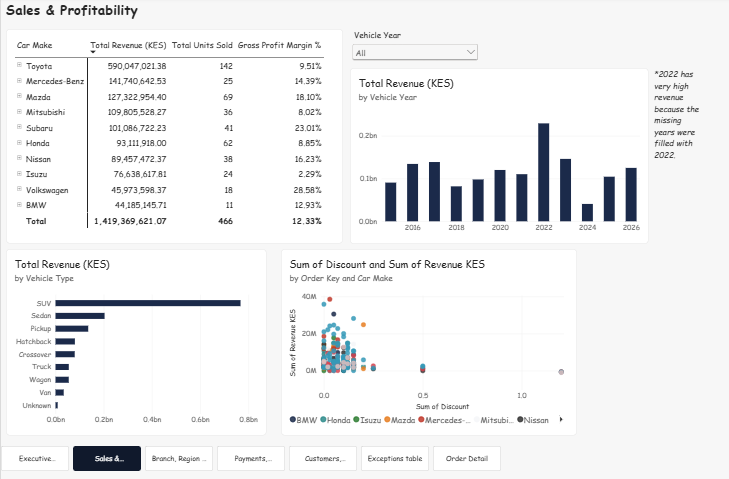

What the dashboard file says about the page in this screenshot:
{"tool":"powerbi","page":{"name":"Sales & Profitability","canvas":[1920,1080],"ordinal":1},"visuals":[{"type":"textbox","box":[10.2,0,309.3,58.4],"z":0},{"type":"pivotTable","fields":{"Rows":["Dim_Vehicle.Car Make","Dim_Vehicle.Car Model"],"Values":["_Measures.Total Revenue (KES)","_Measures.Total Units Sold","_Measures.Gross Profit Margin %"]},"box":[10.2,58.4,674,428.9],"z":1000},{"type":"clusteredBarChart","fields":{"Category":["Dim_Vehicle.Vehicle Type"],"Y":["_Measures.Total Revenue (KES)"]},"box":[10.2,497.5,520.9,373.5],"z":2000},{"type":"scatterChart","fields":{"Category":["Fact_Sales.Order Key"],"Series":["Dim_Vehicle.Car Make"],"X":["Sum(Fact_Sales.Discount)"],"Y":["Sum(Fact_Sales.Revenue KES)"]},"box":[560.2,497.5,592.3,373.5],"z":3000},{"type":"slicer","fields":{"Values":["Dim_Vehicle.Vehicle Year"]},"box":[698.8,58.4,261.2,93.4],"z":4000},{"type":"columnChart","fields":{"Category":["Dim_Vehicle.Vehicle Year"],"Y":["_Measures.Total Revenue (KES)"]},"box":[698.8,135.7,596.7,351.6],"z":5000},{"type":"textbox","box":[1305.8,135.7,96.3,351.6],"z":6000},{"type":"pageNavigator","box":[0,891.4,1000,50],"z":7000}]}

Visuals, with their boxes on the page's 1920x1080 design canvas (x1, y1, x2, y2). These are canvas units, not pixel positions in the 729x479 screenshot, which may show the page scaled, cropped or inside an application window:
textbox: 10,0,320,58
pivotTable - Dim_Vehicle.Car Make x Dim_Vehicle.Car Model: 10,58,684,487
clusteredBarChart - Dim_Vehicle.Vehicle Type x _Measures.Total Revenue (KES): 10,498,531,871
scatterChart - Fact_Sales.Order Key x Dim_Vehicle.Car Make: 560,498,1152,871
slicer - Dim_Vehicle.Vehicle Year: 699,58,960,152
columnChart - Dim_Vehicle.Vehicle Year x _Measures.Total Revenue (KES): 699,136,1296,487
textbox: 1306,136,1402,487
pageNavigator: 0,891,1000,941
